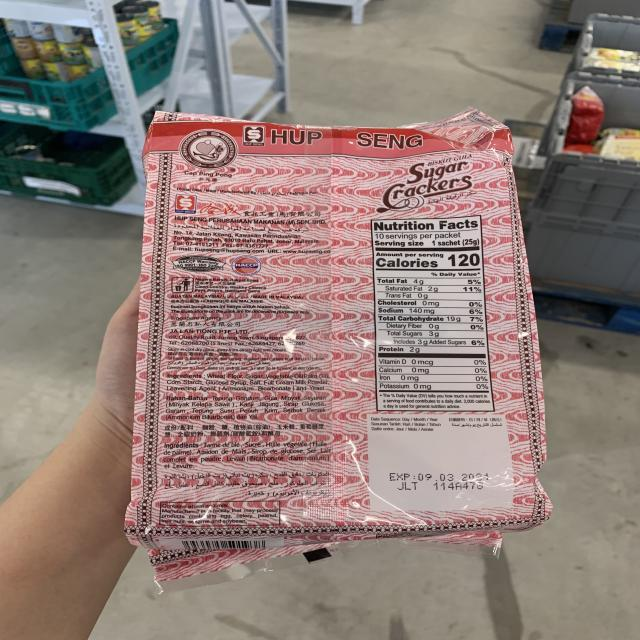object_name: (152, 117, 536, 532)
